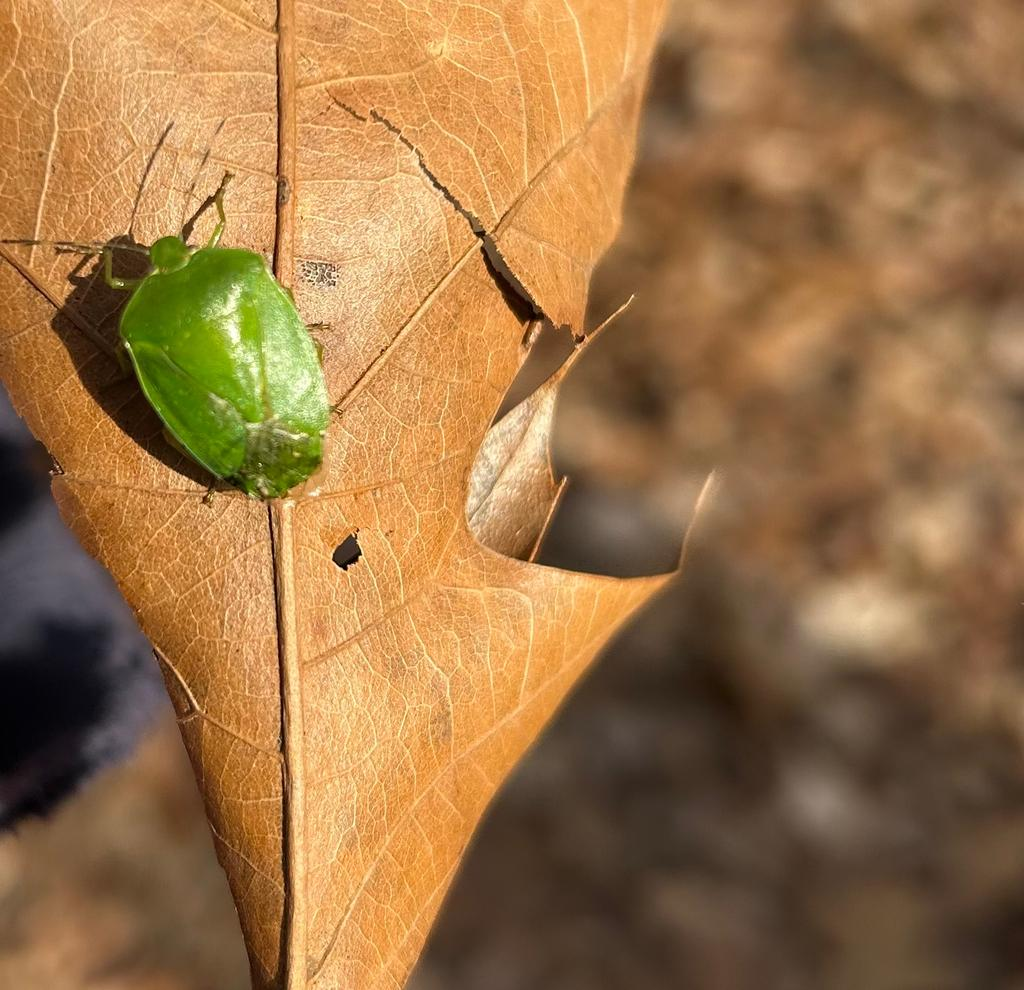stink_bugs: (16, 121, 449, 577)
